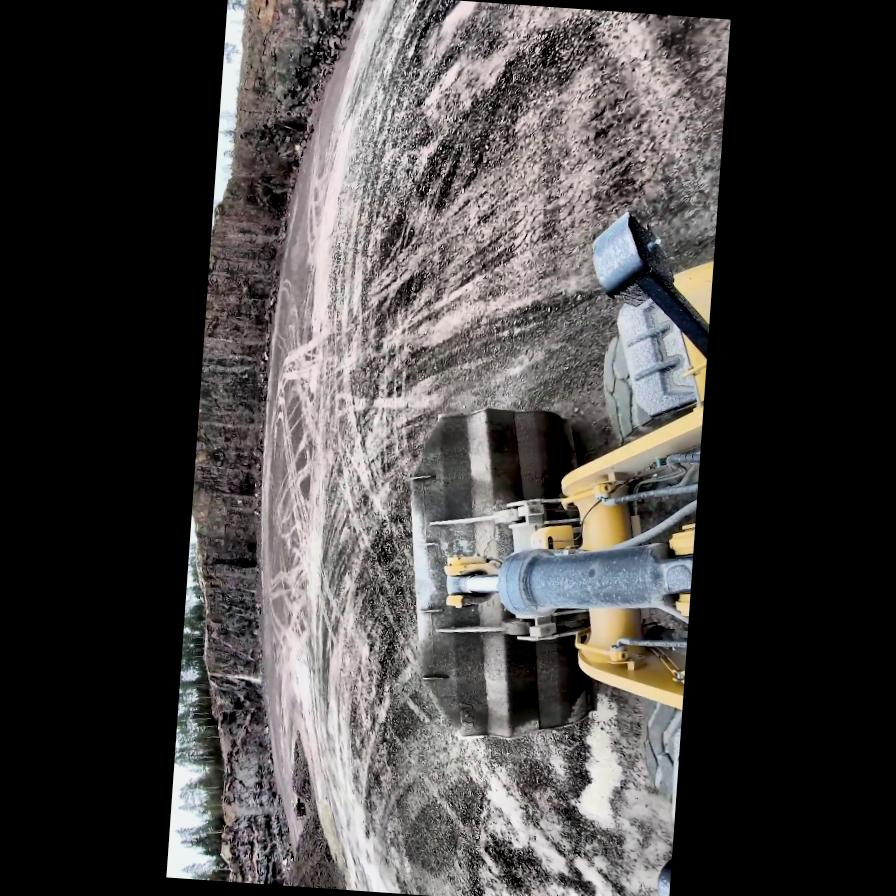anchor: (440, 552, 504, 608)
pile of gravel: (281, 730, 362, 890)
